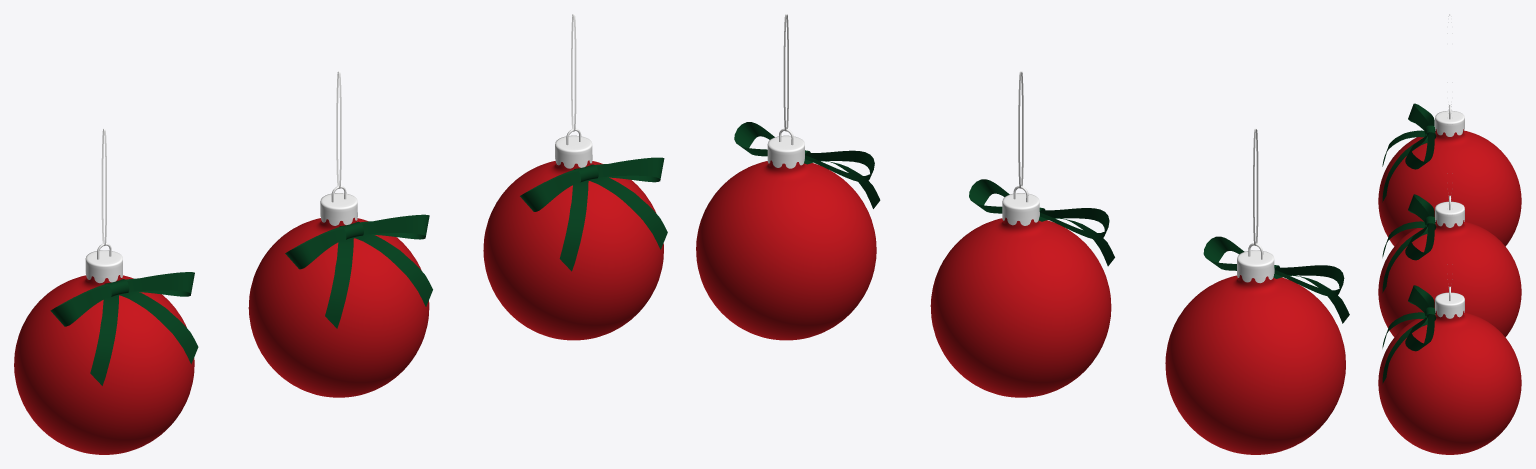
The picture shows the model from 3 angles, left to right: view 1: azimuth 30°, elevation 25°; view 2: azimuth 150°, elevation 25°; view 3: azimuth 270°, elevation 25°; orthographic projection. The views are drawn at different scales.
Parts seen in each view (by area): view 1: Object_9, Object_13, Object_5, Object_10, Object_6, Object_14, Object_12, Object_4, Object_8; view 2: Object_13, Object_5, Object_9, Object_10, Object_14, Object_6, Object_4, Object_12, Object_8; view 3: Object_13, Object_5, Object_9, Object_6, Object_10, Object_14, Object_8, Object_4, Object_12.
Boxes of the visible parts, left/top/right/bottom form: Object_9: left=248, top=217, right=429, bottom=397; Object_13: left=483, top=160, right=663, bottom=340; Object_5: left=14, top=275, right=194, bottom=454; Object_10: left=285, top=214, right=432, bottom=328; Object_6: left=50, top=272, right=198, bottom=385; Object_14: left=520, top=157, right=667, bottom=271; Object_12: left=555, top=14, right=592, bottom=168; Object_4: left=85, top=128, right=122, bottom=283; Object_8: left=320, top=71, right=357, bottom=225; Object_13: left=696, top=160, right=876, bottom=340; Object_5: left=1165, top=275, right=1345, bottom=454; Object_9: left=930, top=217, right=1111, bottom=397; Object_10: left=969, top=179, right=1114, bottom=266; Object_14: left=734, top=122, right=880, bottom=208; Object_6: left=1203, top=236, right=1349, bottom=323; Object_4: left=1237, top=128, right=1274, bottom=283; Object_12: left=767, top=14, right=804, bottom=168; Object_8: left=1002, top=71, right=1039, bottom=225; Object_13: left=1378, top=311, right=1521, bottom=454; Object_5: left=1378, top=129, right=1521, bottom=246; Object_9: left=1378, top=220, right=1521, bottom=337; Object_6: left=1382, top=103, right=1436, bottom=202; Object_10: left=1382, top=194, right=1436, bottom=292; Object_14: left=1382, top=285, right=1436, bottom=383; Object_8: left=1435, top=105, right=1464, bottom=227; Object_4: left=1435, top=14, right=1464, bottom=136; Object_12: left=1435, top=196, right=1464, bottom=318.
Size of the model in its own units: 6.33 by 3.08 by 1.58.
